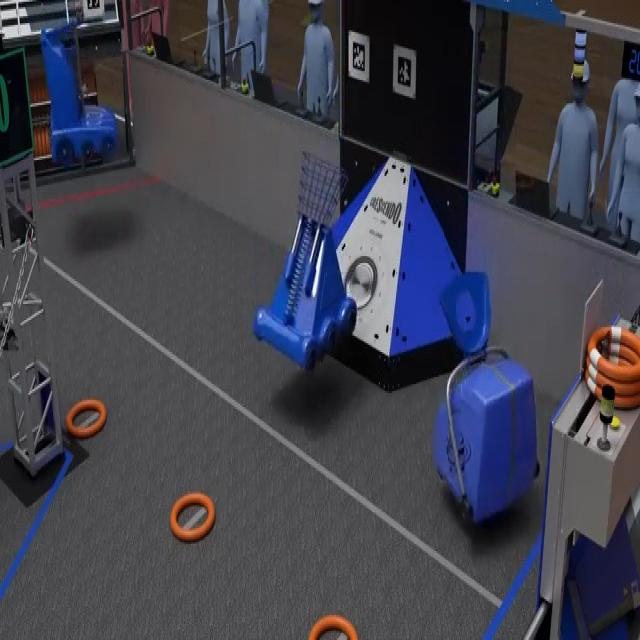notes: (171, 493, 218, 545), (63, 398, 107, 441), (308, 614, 362, 640)
